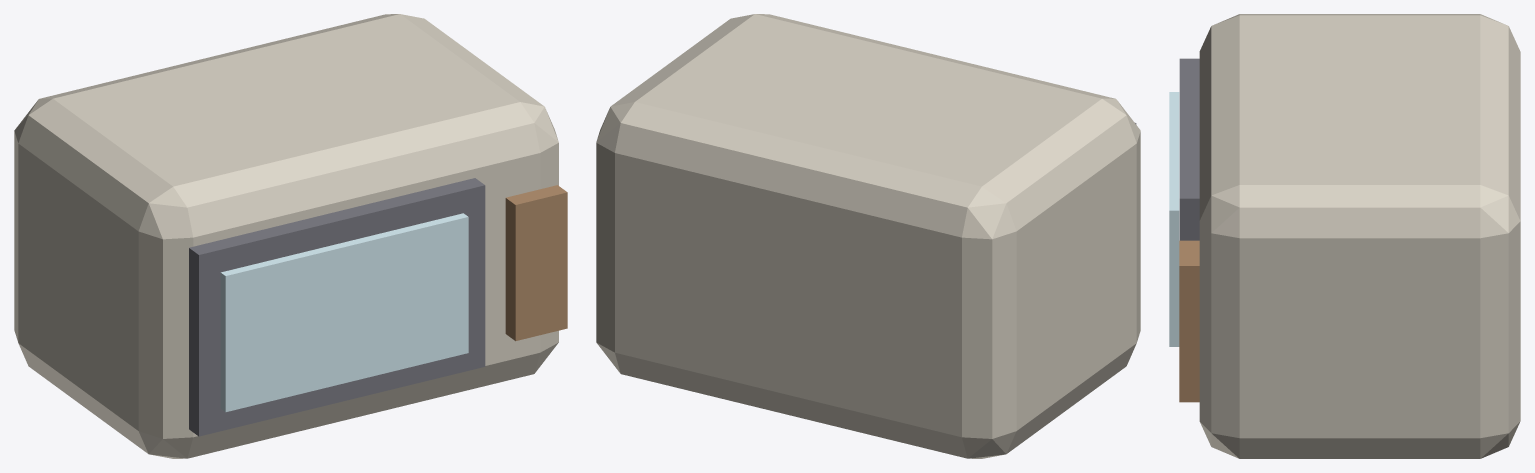
File: cozy-home-interiors-microwave-aea6ee34.glb
3 views of the same model, side by side, from view 1: azimuth 30°, elevation 25°; view 2: azimuth 150°, elevation 25°; view 3: azimuth 270°, elevation 25° (orthographic).
Parts seen in each view (by area): view 1: microwave; view 2: microwave; view 3: microwave.
Part boxes in pixels (x1,y1,x2,y2): microwave: (14,14,567,458); microwave: (596,14,1140,458); microwave: (1169,14,1520,458).
Size of the model in its own units: 0.48 by 0.3 by 0.35.
